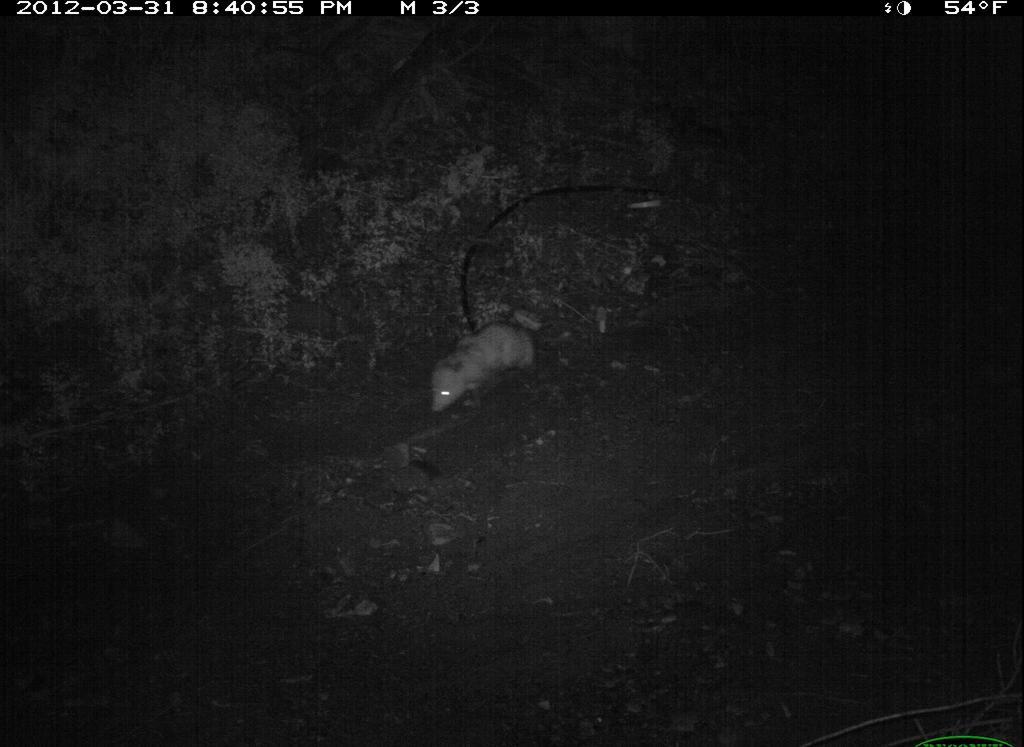opossum: (427, 315, 543, 418)
